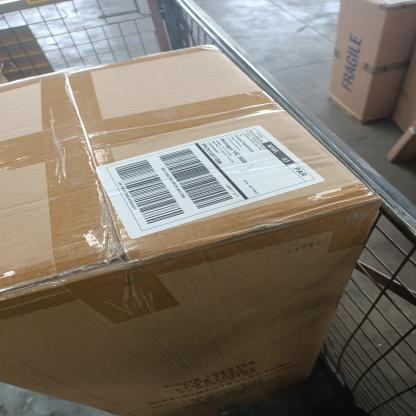label: (86, 124, 317, 230)
package: (0, 44, 384, 408), (329, 0, 416, 124)
